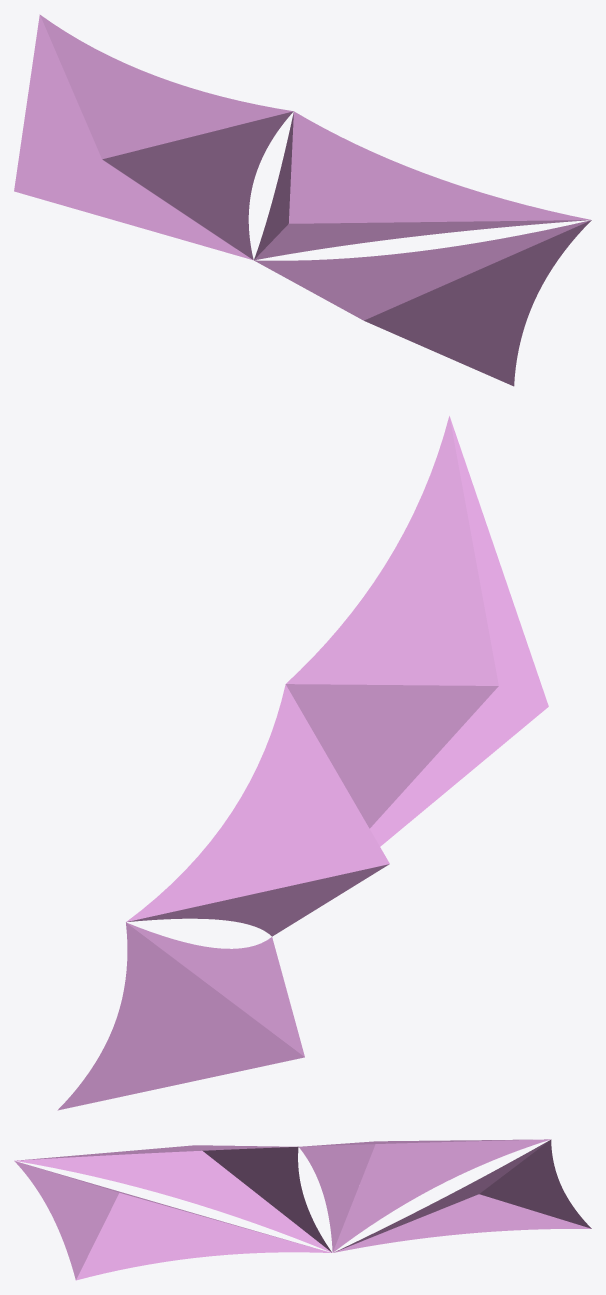
The model's file is TYPE21-2.glb.
3 renders of one model, top to bottom at view 1: azimuth 30°, elevation 25°; view 2: azimuth 150°, elevation 25°; view 3: azimuth 270°, elevation 25°, orthographic. The views are drawn at different scales.
Parts seen in each view (by area): view 1: TYPE21-2 (×8); view 2: TYPE21-2 (×7); view 3: TYPE21-2 (×12).
Part boxes in pixels (box(x1,y1,x2,y2)): TYPE21-2 (×8): box(14, 15, 591, 386); TYPE21-2 (×7): box(57, 416, 548, 1110); TYPE21-2 (×12): box(14, 1139, 591, 1280).
Size of the model in its own units: 3.29 by 2.56 by 10.28.
